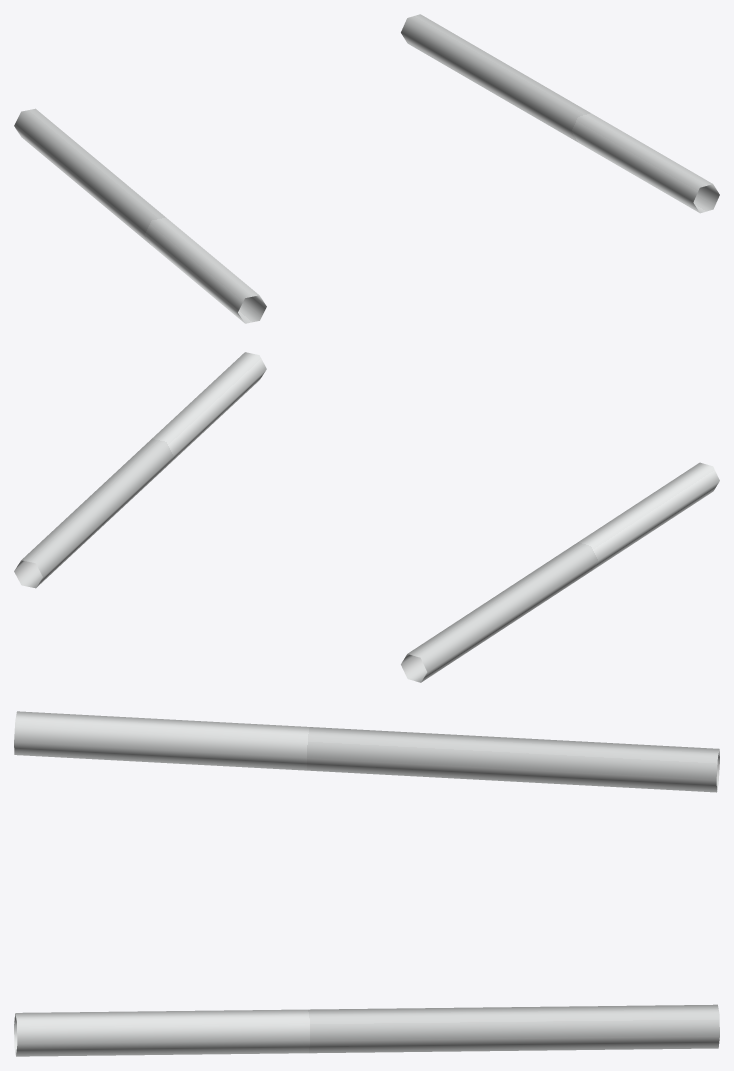
Rendered from nycsignalarm_regular8_c6.obj.
The picture shows the model from 3 angles, top to bottom: view 1: azimuth 30°, elevation 25°; view 2: azimuth 150°, elevation 25°; view 3: azimuth 270°, elevation 25°; orthographic projection. The views are drawn at different scales.
Visible parts, largest first — view 1: nycsignalarm_regular8_c6; view 2: nycsignalarm_regular8_c6; view 3: nycsignalarm_regular8_c6.
Part boxes in pixels (x1=…): nycsignalarm_regular8_c6: x1=14, y1=14, x2=719, y2=323; nycsignalarm_regular8_c6: x1=14, y1=352, x2=719, y2=682; nycsignalarm_regular8_c6: x1=14, y1=711, x2=719, y2=1056.
Size of the model in its own units: 1.08 by 0.0772 by 1.
